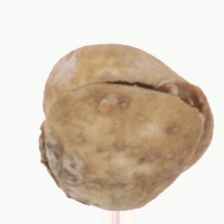L1: (169, 75, 216, 146), (38, 120, 62, 196)
L2: (39, 44, 214, 210)
